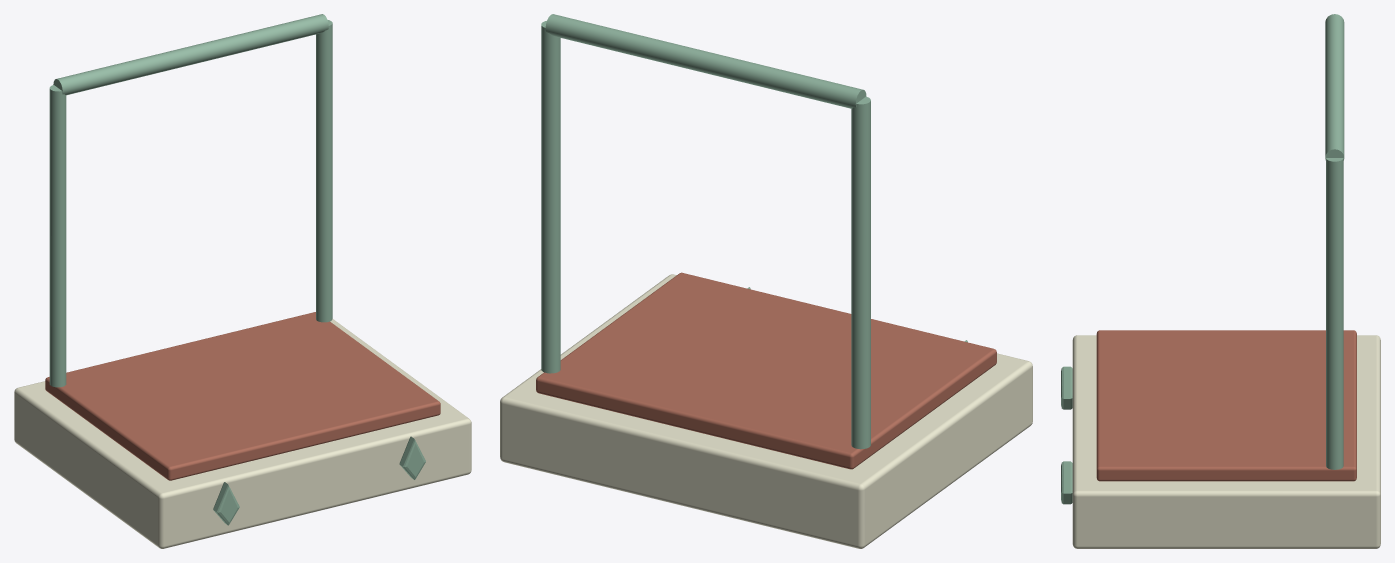
The model's file is enchanted-harp-garden-and-music-sanctuary-conductor-po-1f4fdab6__30426.glb.
The picture shows the model from 3 angles, left to right: view 1: azimuth 30°, elevation 25°; view 2: azimuth 150°, elevation 25°; view 3: azimuth 270°, elevation 25°; orthographic projection. The views are drawn at different scales.
Visible parts, largest first — view 1: conductor-podium; view 2: conductor-podium; view 3: conductor-podium.
Part boxes in pixels (<box>): conductor-podium: <box>14,14,471,548</box>; conductor-podium: <box>500,14,1032,548</box>; conductor-podium: <box>1061,14,1380,548</box>.
Bounding box in the file's own units: 0.94 × 1.07 × 0.799.
